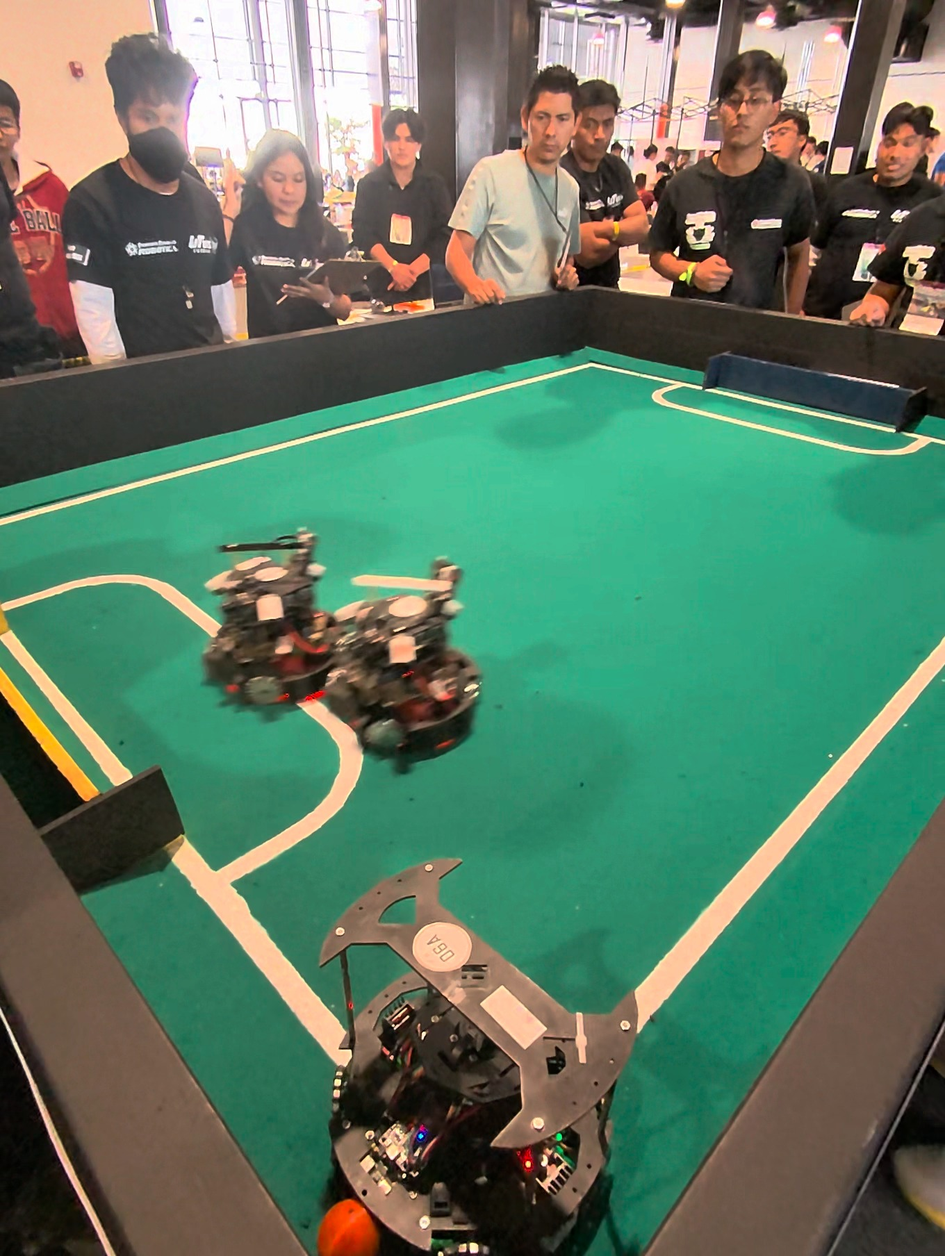Robot: (278, 841, 650, 1256), (331, 541, 488, 771), (195, 528, 341, 720)
pelota: (324, 1206, 374, 1256)
